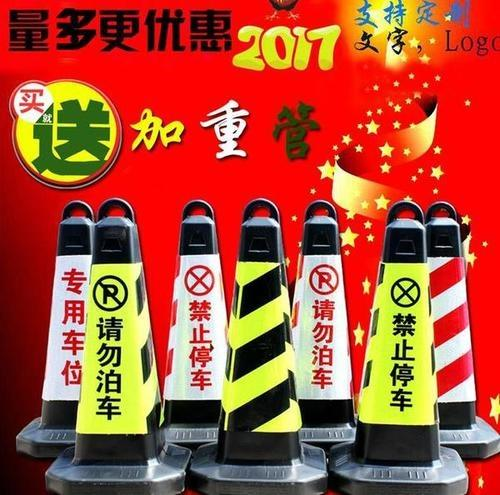cone_barrel: (350, 202, 449, 476), (206, 215, 310, 473), (67, 209, 166, 469), (15, 200, 92, 450), (156, 201, 228, 438), (289, 198, 361, 434), (425, 203, 490, 444)
